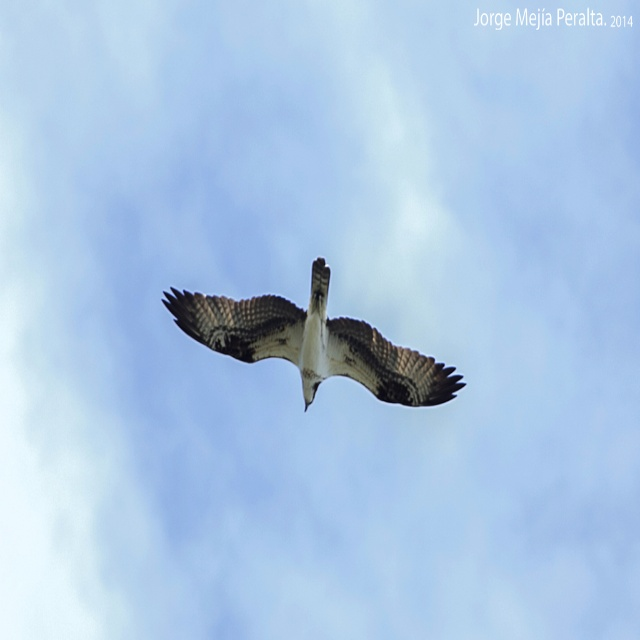Eagle: (159, 252, 471, 424)
